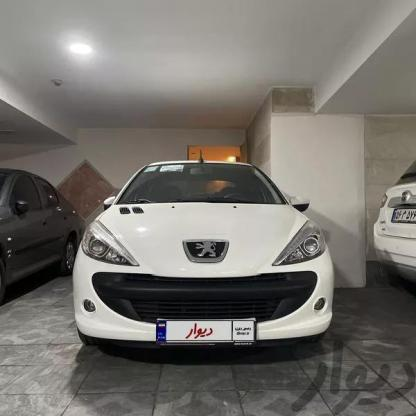Car: (55, 150, 335, 355), (0, 158, 78, 332), (366, 155, 416, 305)
